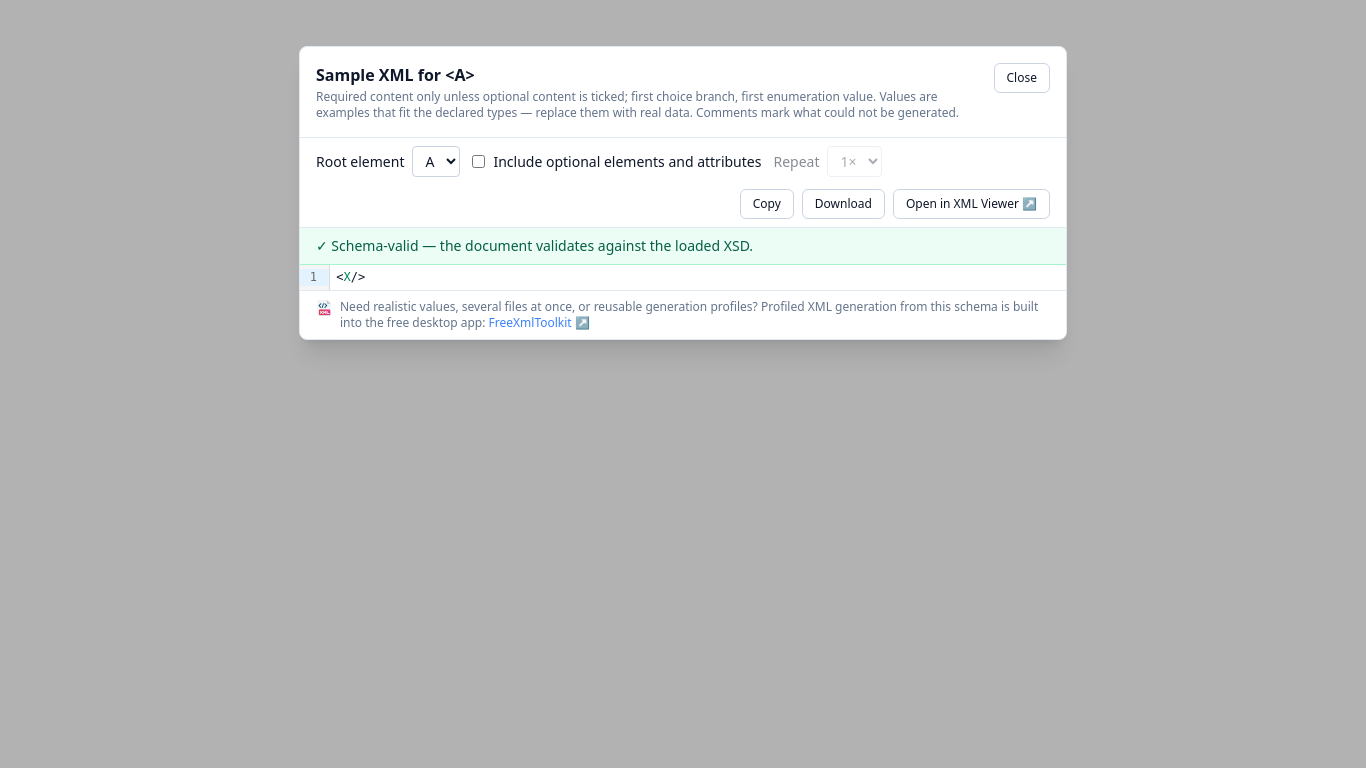
Test: SampleXmlDialog › lets the user switch between candidate roots
The image size is (1366, 768).
Select "B" in the dropdown labelled "Root element" at {"x": 436, "y": 162}, box x1=412 y1=146 x2=460 y2=177
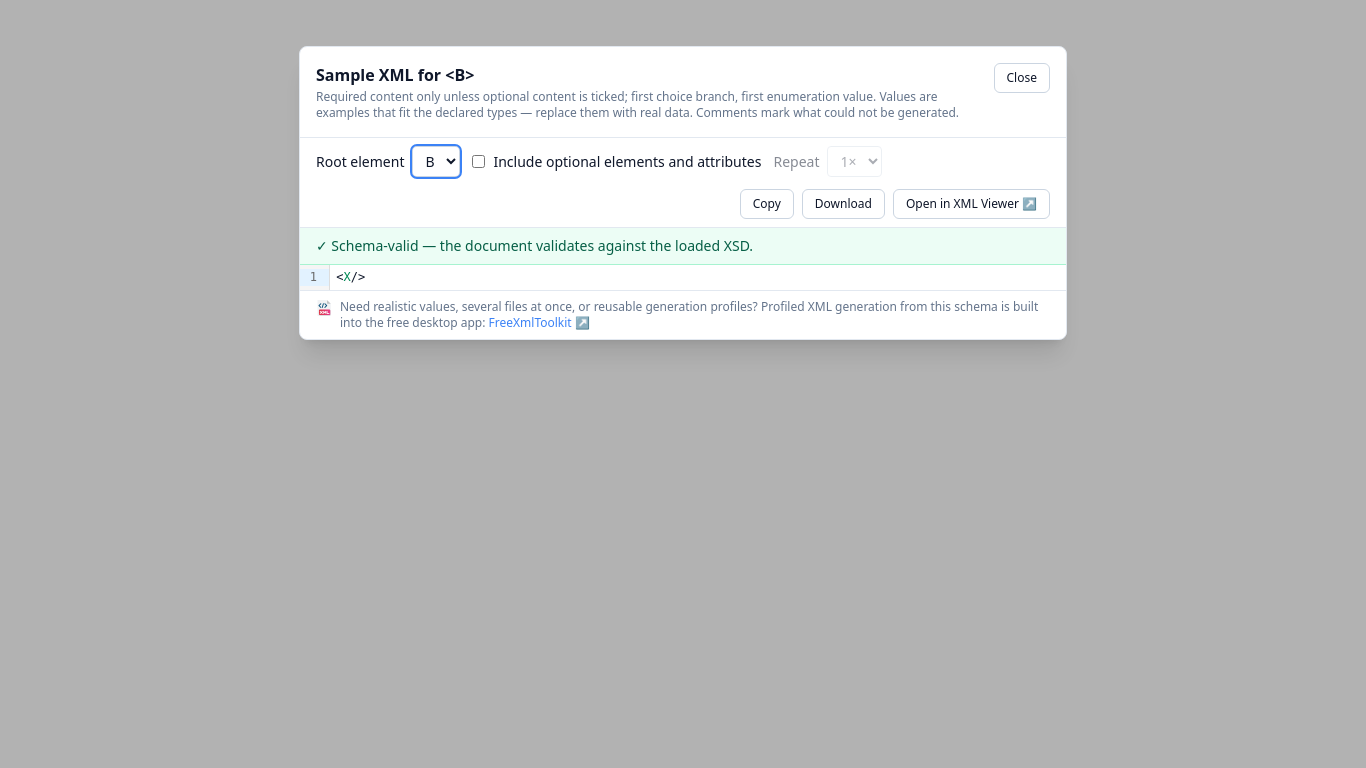
expect the dialog "Sample XML for <B>" is shown: met, box x1=299 y1=46 x2=1067 y2=340
